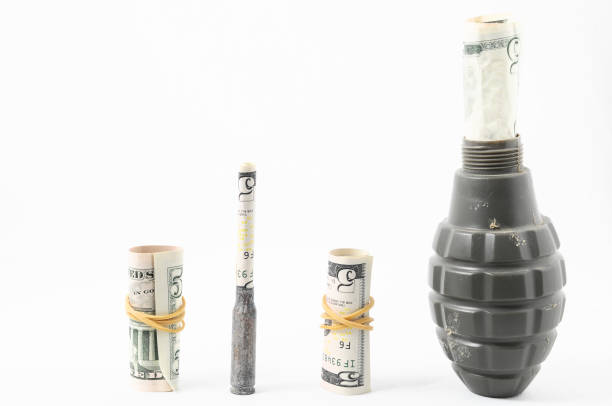e1: (427, 135, 574, 406)
